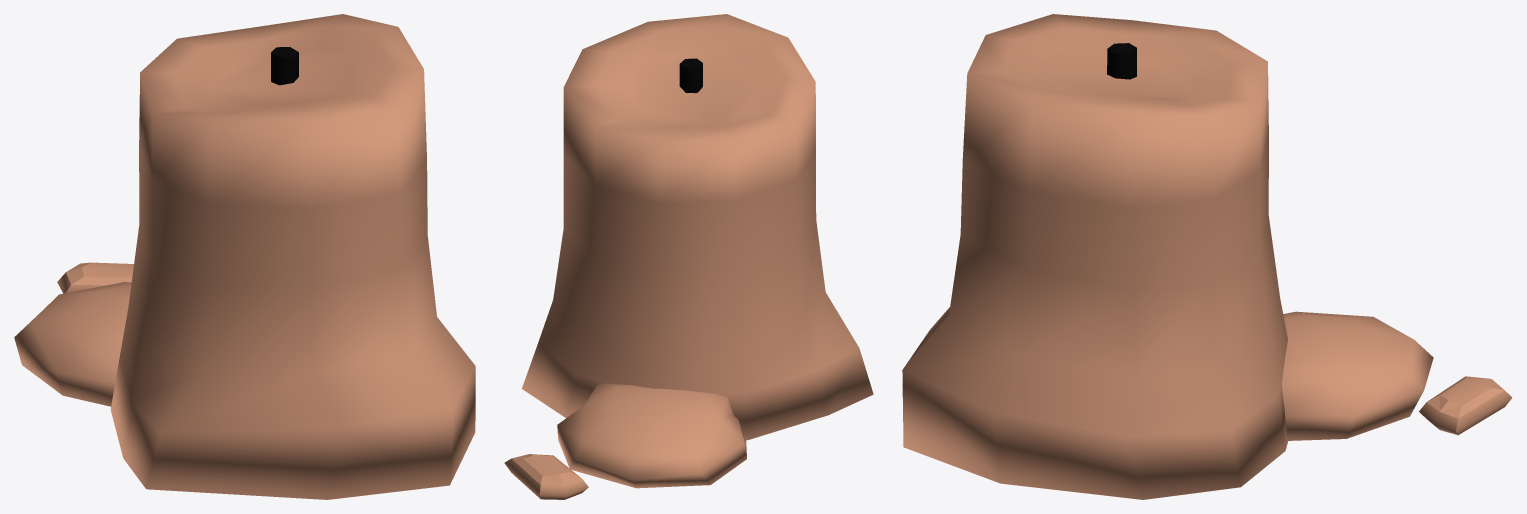
Rendered from ShortCandlel.fbx.
The picture shows the model from 3 angles, left to right: view 1: azimuth 30°, elevation 25°; view 2: azimuth 150°, elevation 25°; view 3: azimuth 270°, elevation 25°; orthographic projection. The views are drawn at different scales.
Visible parts, largest first — view 1: CandleShort; view 2: CandleShort; view 3: CandleShort.
Part boxes in pixels (x1,y1,x2,y2): CandleShort: [14, 14, 475, 499]; CandleShort: [504, 14, 873, 499]; CandleShort: [902, 14, 1512, 499].
Size of the model in its own units: 5.16 by 5.36 by 7.98.
